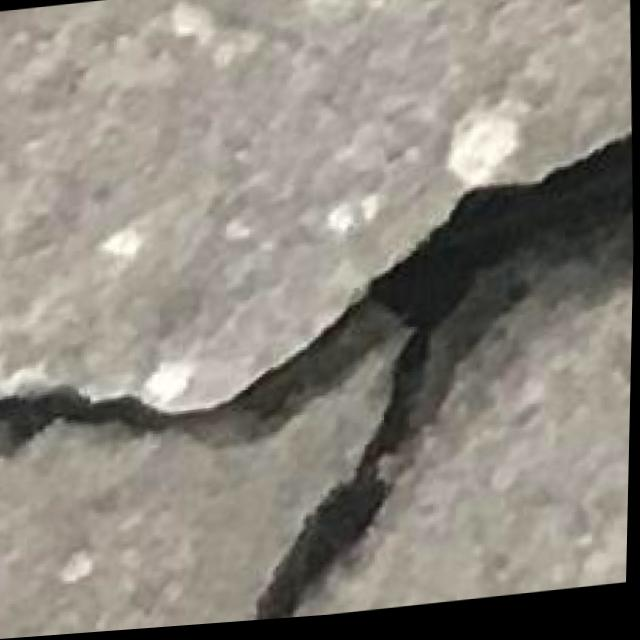Crack: (0, 126, 637, 640)
